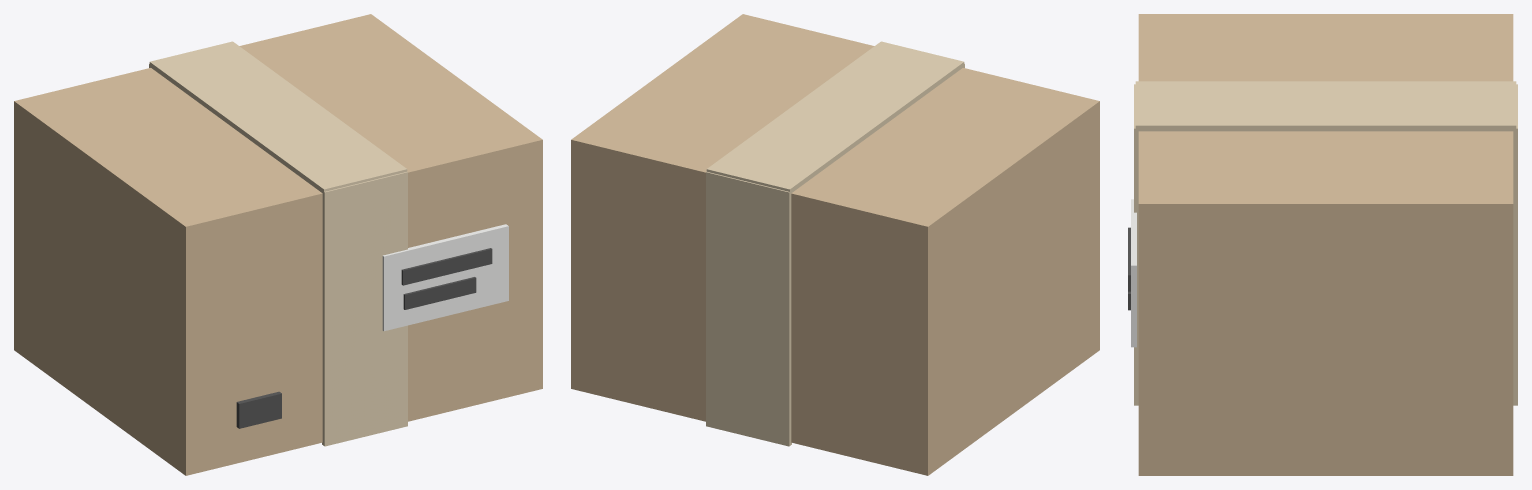
The model's file is box_small.glb.
The picture shows the model from 3 angles, left to right: view 1: azimuth 30°, elevation 25°; view 2: azimuth 150°, elevation 25°; view 3: azimuth 270°, elevation 25°; orthographic projection. The views are drawn at different scales.
Visible parts, largest first — view 1: box_small; view 2: box_small; view 3: box_small.
Part boxes in pixels (x1=…): box_small: x1=14, y1=14, x2=542, y2=475; box_small: x1=571, y1=14, x2=1099, y2=475; box_small: x1=1128, y1=14, x2=1517, y2=475.
Size of the model in its own units: 0.3 by 0.206 by 0.26.
